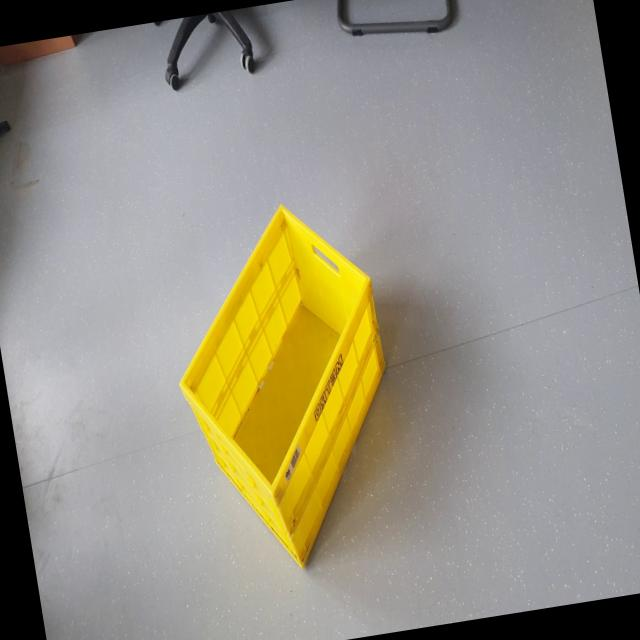box: (150, 166, 436, 606)
